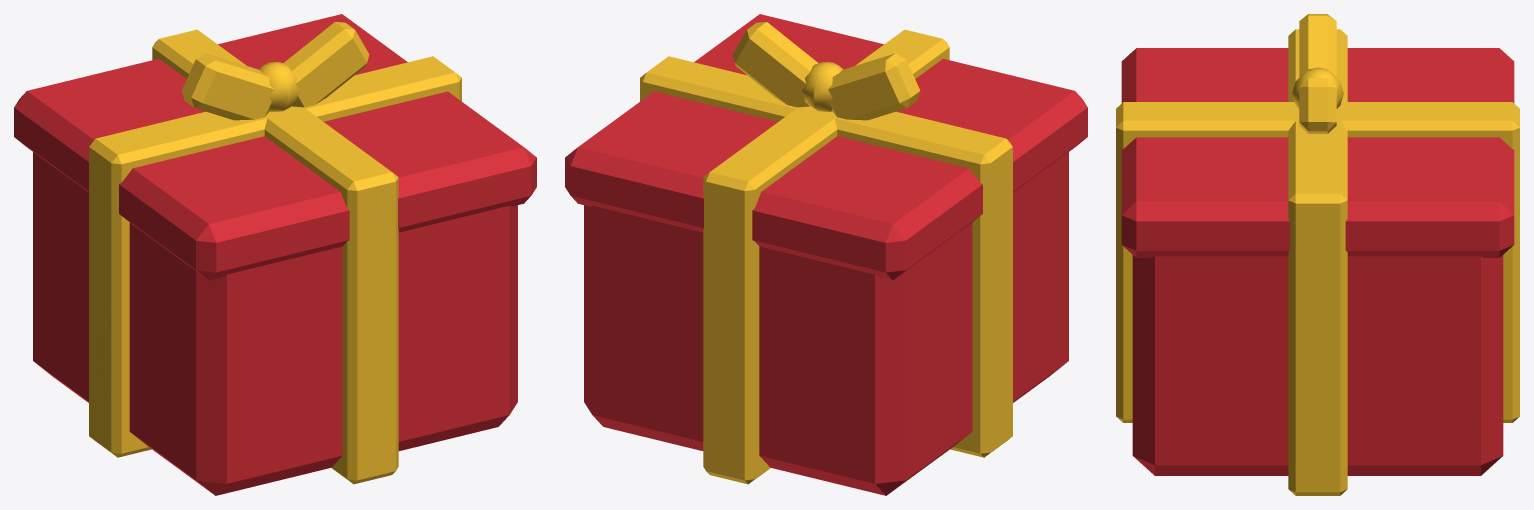
Rendered from vuena-prop-present-red.glb.
The picture shows the model from 3 angles, left to right: view 1: azimuth 30°, elevation 25°; view 2: azimuth 150°, elevation 25°; view 3: azimuth 270°, elevation 25°; orthographic projection.
Parts seen in each view (by area): view 1: present_red; view 2: present_red; view 3: present_red.
Part boxes in pixels (x1,y1,x2,y2): present_red: (14, 14, 536, 495); present_red: (565, 14, 1087, 495); present_red: (1116, 14, 1519, 495).
Bounding box in the file's own units: 0.545 × 0.5458 × 0.545.
1 material, 1 textured.
